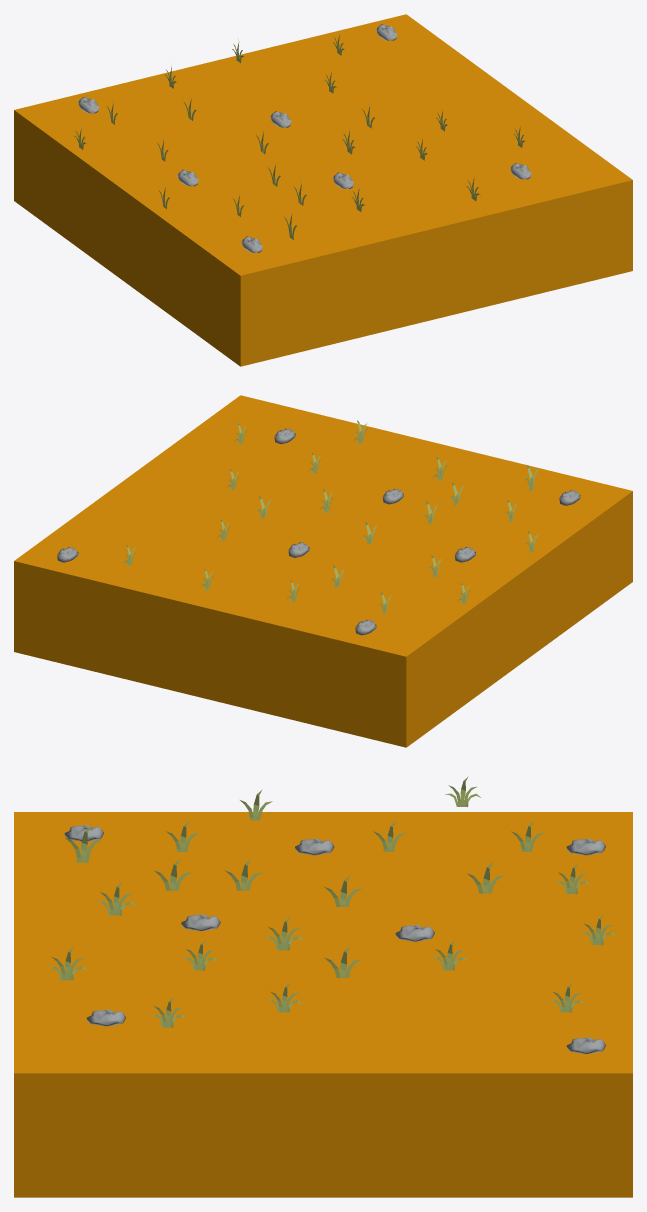
The model's file is ground.fbx.
3 renders of one model, top to bottom at view 1: azimuth 30°, elevation 25°; view 2: azimuth 150°, elevation 25°; view 3: azimuth 270°, elevation 25°, orthographic. The views are drawn at different scales.
Visible parts, largest first — view 1: ground; view 2: ground; view 3: ground.
Part boxes in pixels (x1,y1,x2,y2): ground: [14, 14, 632, 366]; ground: [14, 395, 632, 747]; ground: [14, 776, 632, 1197].
Bounding box in the file's own units: 3337 × 974 × 3337.
